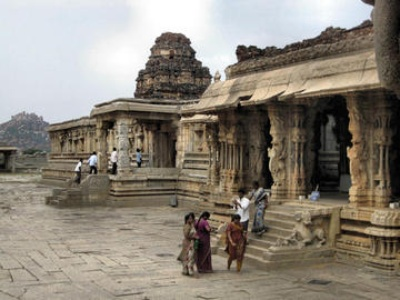mandapa: (213, 69, 384, 219)
